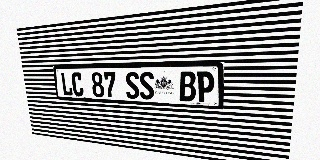7: (103, 72, 117, 98)
8: (91, 72, 105, 97)
B: (179, 71, 196, 102)
C: (71, 72, 84, 97)
L: (60, 72, 73, 96)
P: (196, 71, 214, 103)
S: (139, 72, 154, 100), (125, 72, 140, 99)
